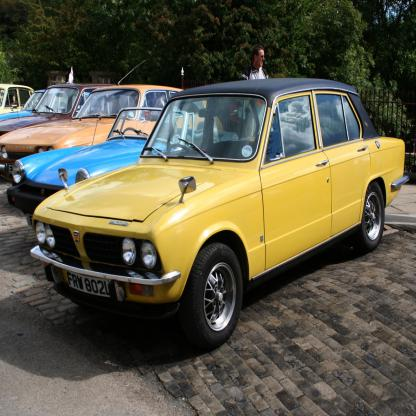Car: (18, 80, 405, 354), (0, 58, 239, 230)
